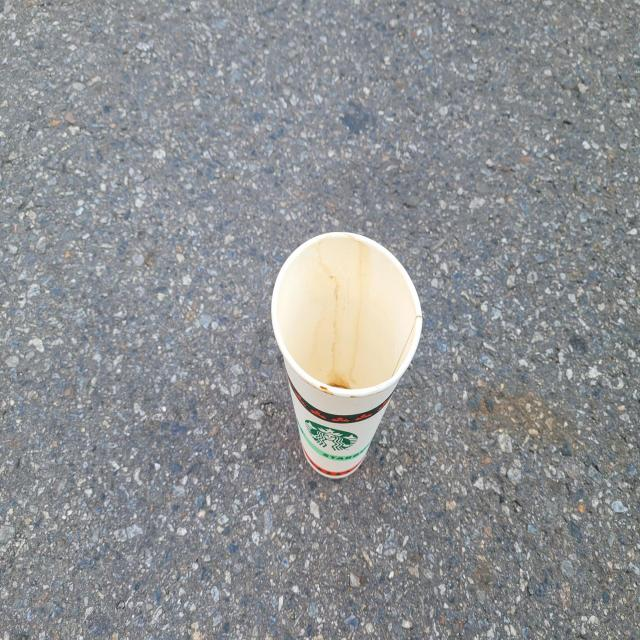paperpack: (271, 232, 423, 478)
